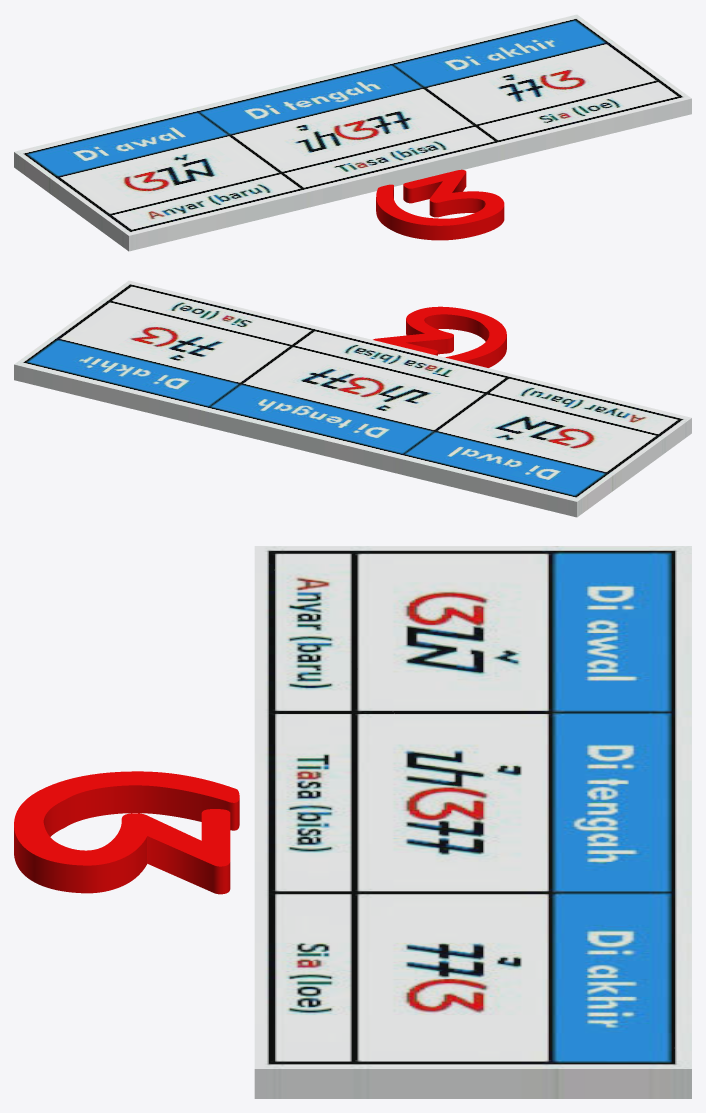
3 renders of one model, top to bottom at view 1: azimuth 30°, elevation 25°; view 2: azimuth 150°, elevation 25°; view 3: azimuth 270°, elevation 25°, orthographic. The views are drawn at different scales.
Parts seen in each view (by area): view 1: contoh-bunyi-huruf-a-Swara-vokal-mandiri, Text; view 2: contoh-bunyi-huruf-a-Swara-vokal-mandiri, Text; view 3: contoh-bunyi-huruf-a-Swara-vokal-mandiri, Text.
Boxes of the visible parts, bbox=[...] form: contoh-bunyi-huruf-a-Swara-vokal-mandiri: bbox=[14, 14, 691, 251]; Text: bbox=[376, 169, 504, 240]; contoh-bunyi-huruf-a-Swara-vokal-mandiri: bbox=[14, 280, 691, 517]; Text: bbox=[373, 306, 506, 367]; contoh-bunyi-huruf-a-Swara-vokal-mandiri: bbox=[254, 546, 691, 1098]; Text: bbox=[14, 771, 239, 894].
Bounding box in the file's own units: 2.83 × 0.11 × 1.55.
Materials: 2 (1 with a texture image).
